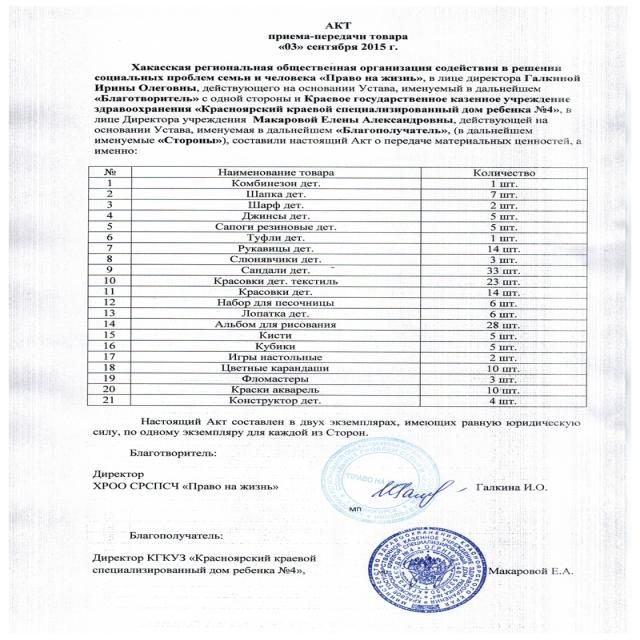stamps: (242, 406, 514, 524), (323, 527, 584, 632)
